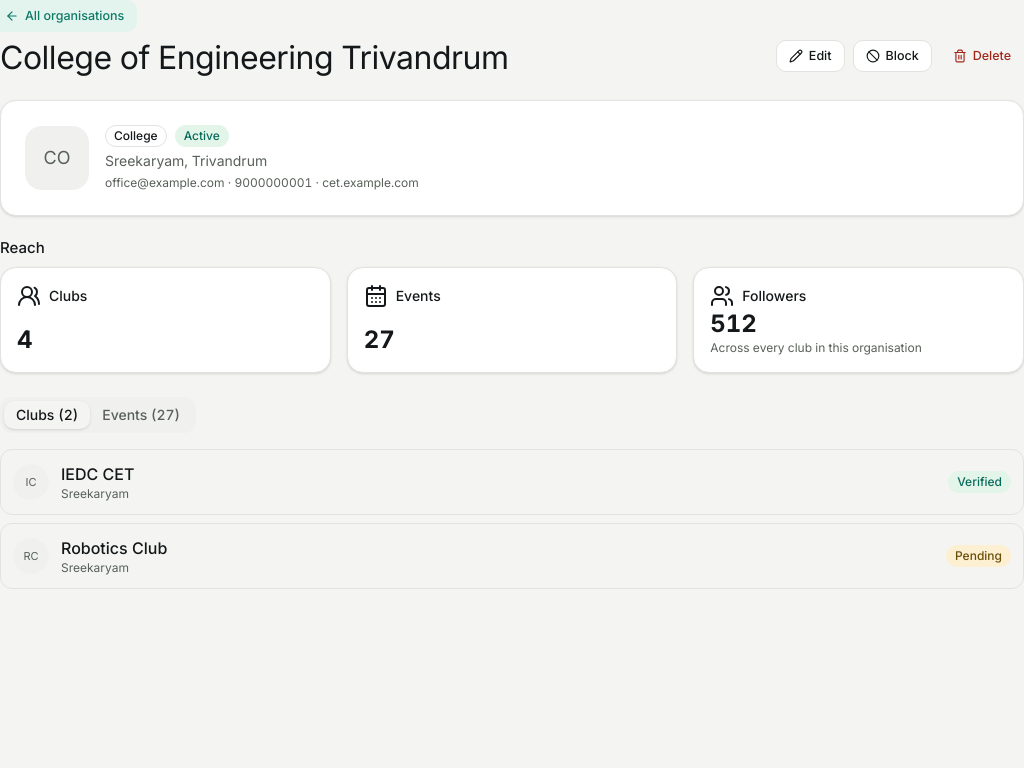
Test: delete an organisation › names how many clubs lose their organisation and offers blocking instead
The width and height of the screenshot is (1024, 768).
Check: the heading "College of Engineering Trivandrum" is shown, box [0,40,509,76]
Check: the text "512" is shown, box [710,309,757,338]
Click the button "Delete" at (982, 56), box [940,40,1023,72]
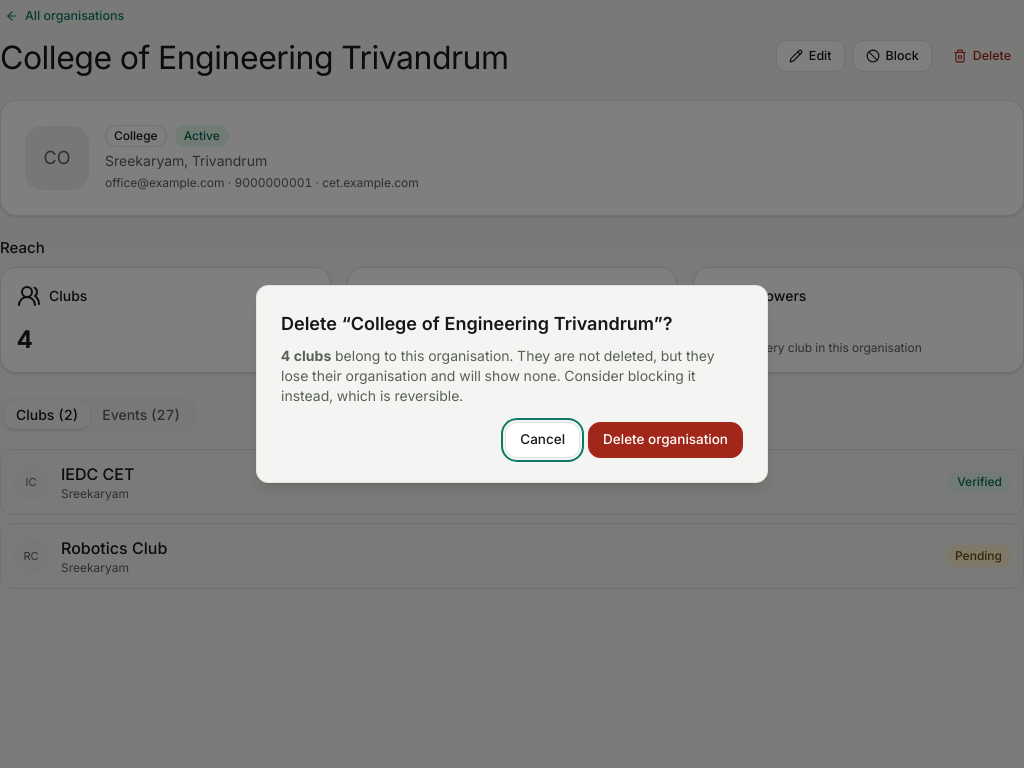
Check: the heading "Delete “College of Engineering Trivandrum”?" is shown, box [281,313,672,334]
Check: the text "4 clubs" is shown, box [281,347,331,364]
Check: the text "consider blocking it instead" is shown, box [281,347,714,404]
